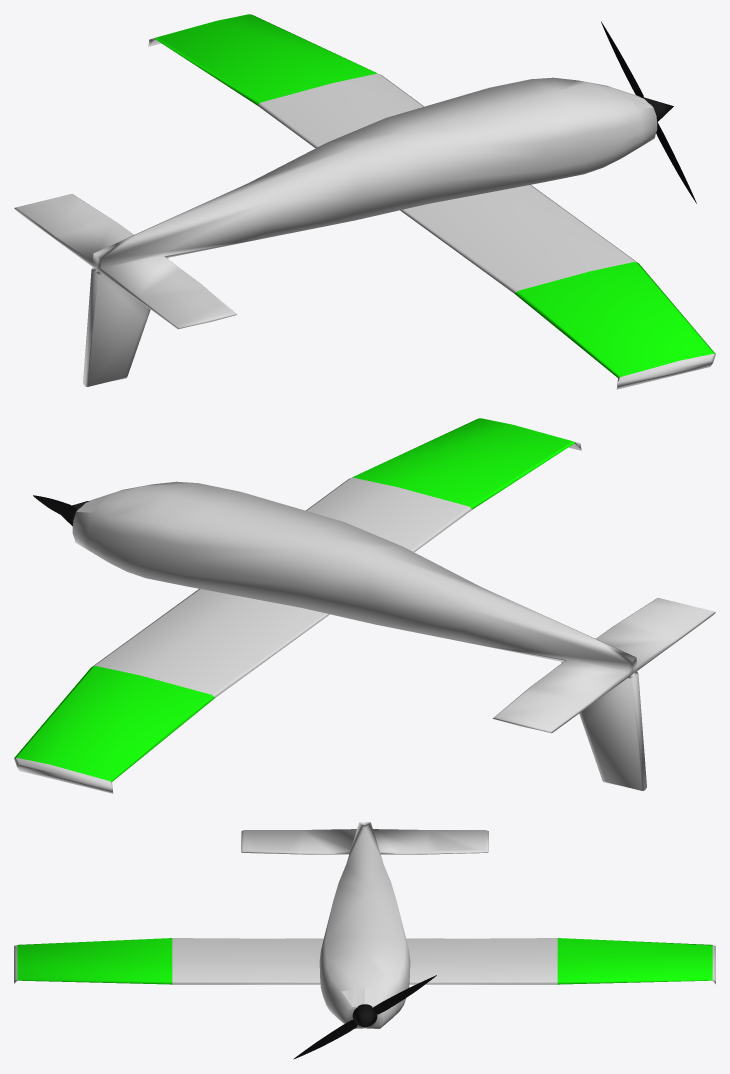
Rendered from miniplane_green.obj.
3 views of the same model, one above another, from view 1: azimuth 30°, elevation 25°; view 2: azimuth 150°, elevation 25°; view 3: azimuth 270°, elevation 25° (orthographic). The views are drawn at different scales.
Parts seen in each view (by area): view 1: Sirius_Cube, Propeller_Cube.001; view 2: Sirius_Cube; view 3: Sirius_Cube, Propeller_Cube.001.
Boxes of the visible parts, x1,y1,x2,y2 form: Sirius_Cube: (14,14,715,389); Propeller_Cube.001: (601,21,696,203); Sirius_Cube: (14,418,715,793); Sirius_Cube: (14,822,715,1028); Propeller_Cube.001: (293,975,436,1059).
Bounding box in the file's own units: 1.03 × 0.3247 × 1.42.
